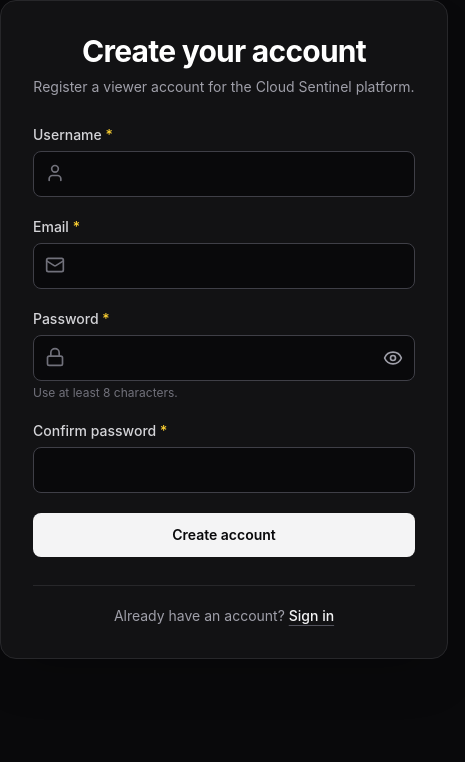
Scenario: RegisterForm › maps duplicate-account errors without rendering raw API details
The image size is (465, 762).
Type "sentinel-viewer" into the field labelled "Username *" at (224, 174), box [33, 151, 415, 197]
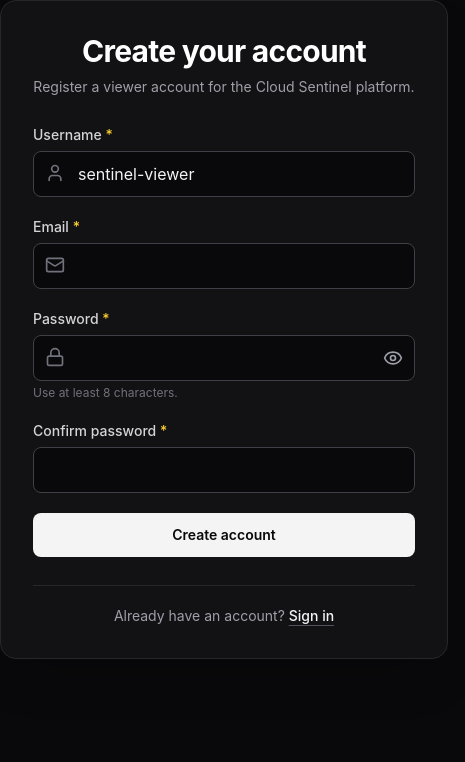
Type "sentinel@example.test" into the field labelled "Email *" at (224, 266), box [33, 243, 415, 289]
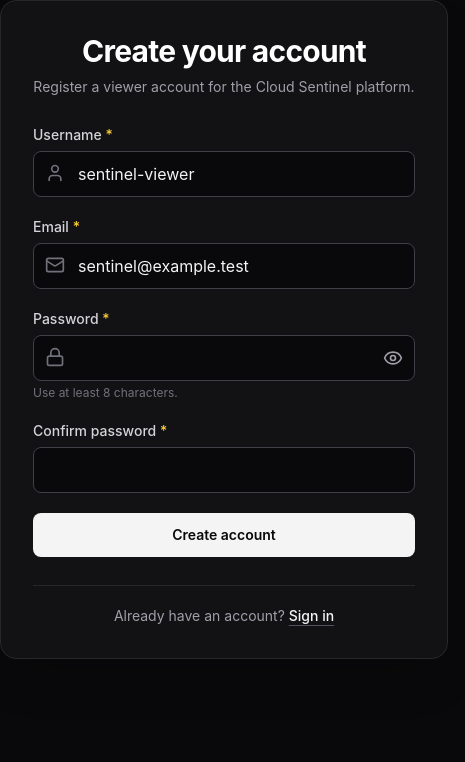
Type "strong-pass-123" into the password field labelled "Password *" at (224, 358), box [33, 335, 415, 381]
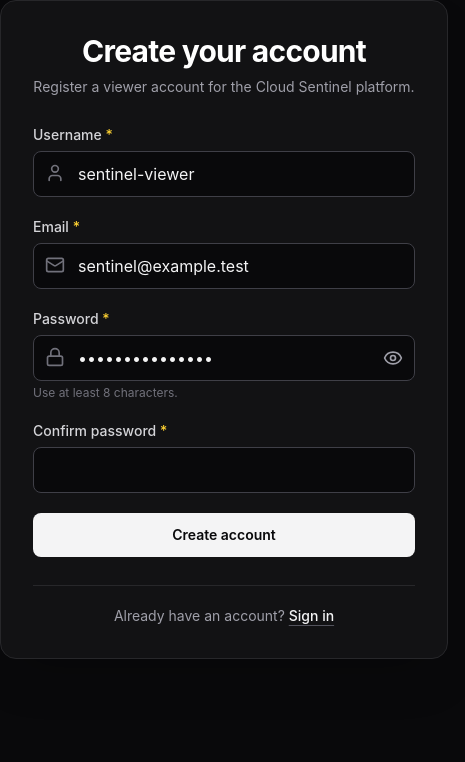
Type "strong-pass-123" into the password field labelled "Confirm password *" at (224, 470), box [33, 447, 415, 493]
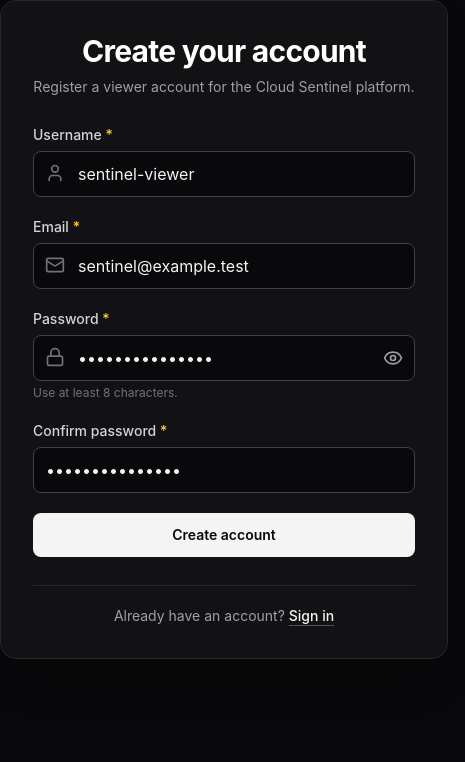
Click the button "Create account" at (224, 535), box [33, 513, 415, 557]
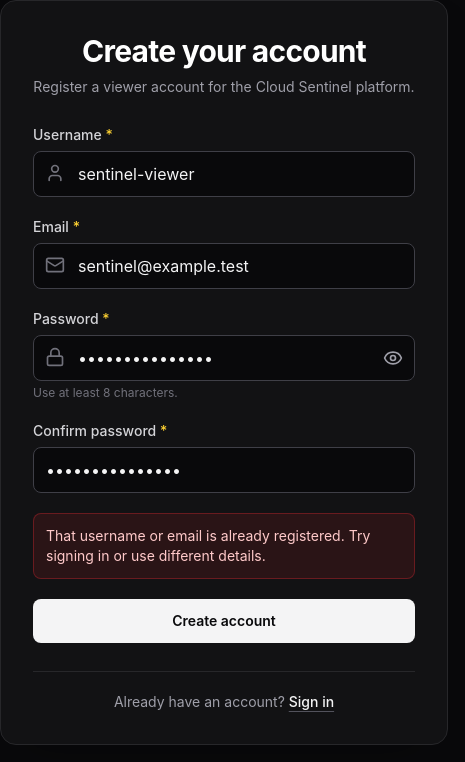
Expected: the message shows "already registered", [46, 527, 370, 564]
